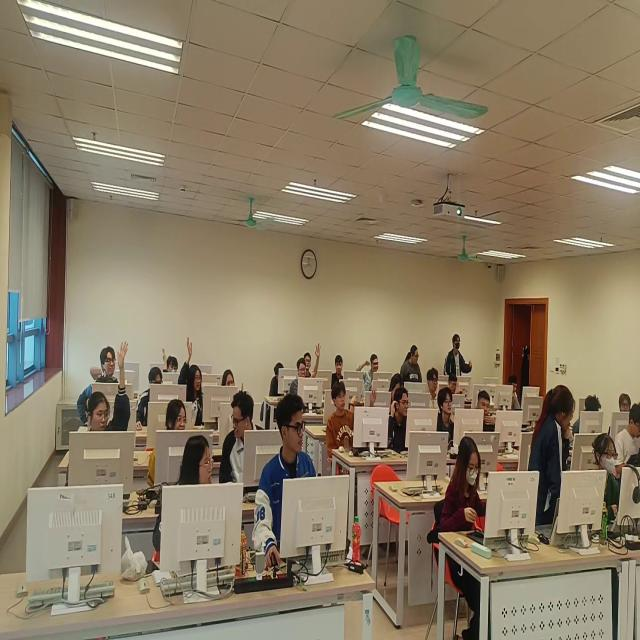raise_hand: (67, 338, 134, 495), (328, 382, 379, 458), (180, 335, 205, 426), (290, 343, 324, 395), (358, 350, 380, 393), (161, 343, 180, 377)
raise_head: (253, 391, 320, 574), (387, 385, 414, 454), (436, 386, 457, 443), (97, 341, 118, 390), (608, 391, 630, 437), (425, 366, 440, 410), (221, 366, 239, 392), (332, 351, 344, 387)
stand: (530, 383, 576, 531), (444, 330, 472, 386), (398, 341, 424, 385), (520, 342, 531, 395)
using_computer: (444, 437, 487, 537), (593, 431, 625, 530), (137, 367, 166, 429), (616, 401, 640, 469), (573, 390, 604, 441), (476, 386, 496, 438), (271, 361, 286, 397), (508, 375, 522, 413), (447, 372, 462, 400)
